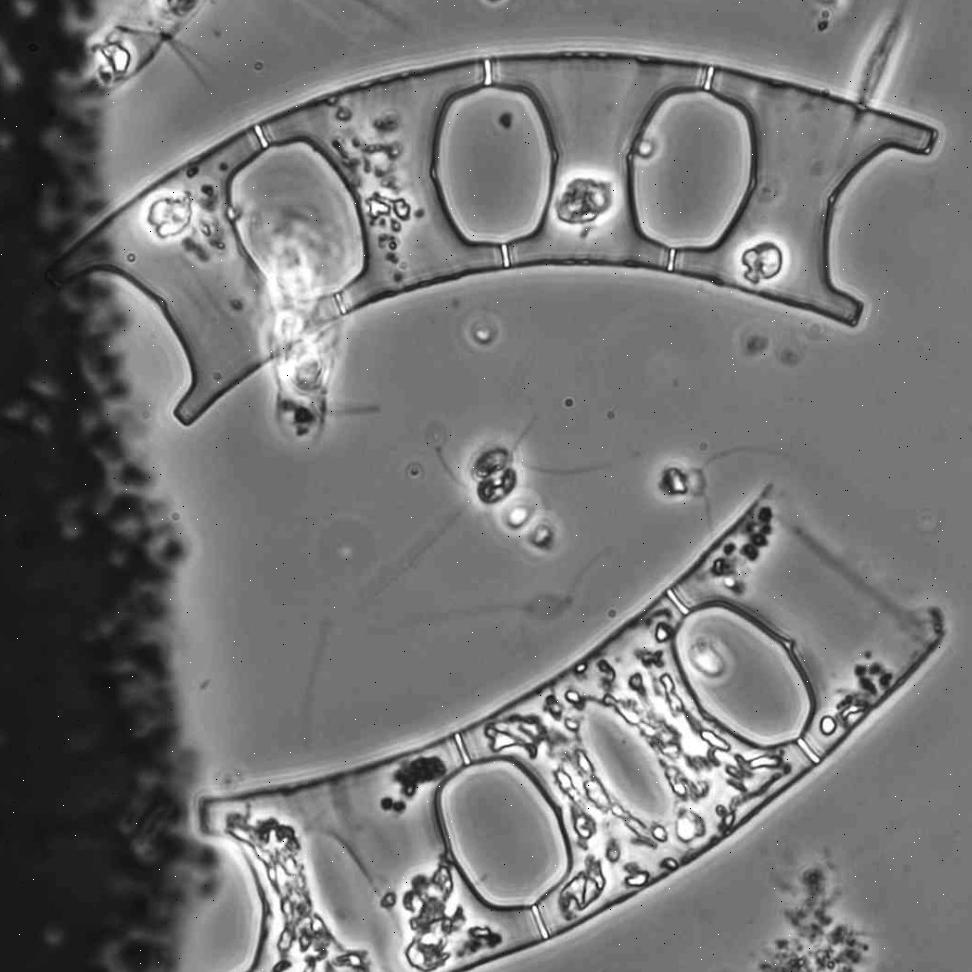eucampia_zodiacus: (198, 485, 944, 972), (44, 52, 945, 424)
